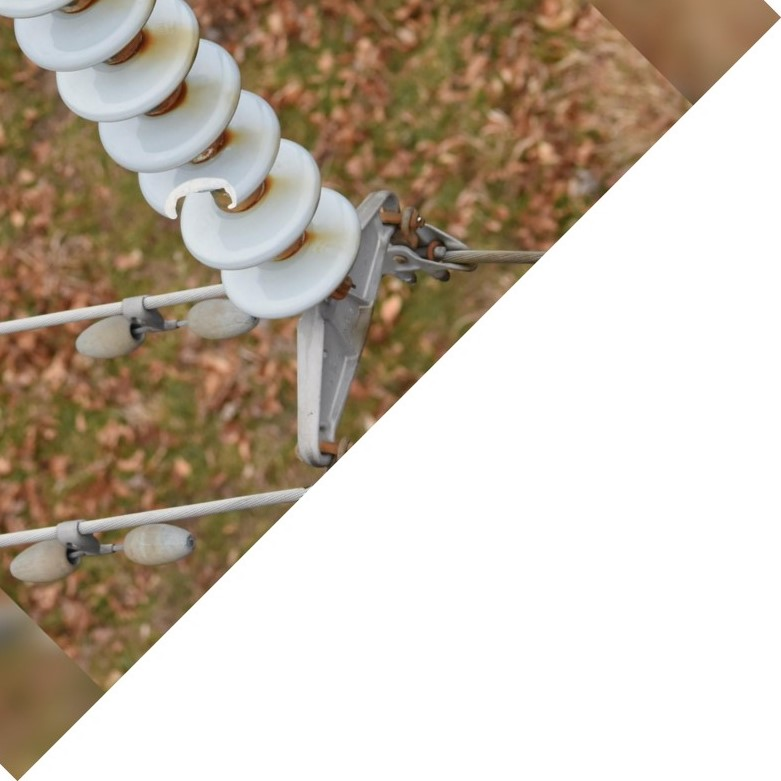insulator breakage: (128, 81, 284, 217)
